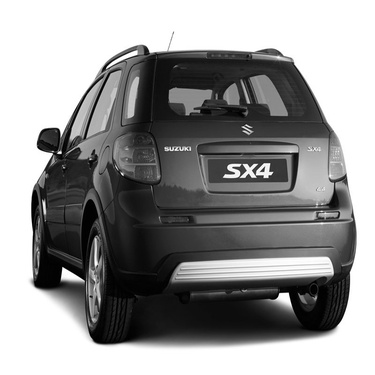car: (24, 31, 359, 348)
